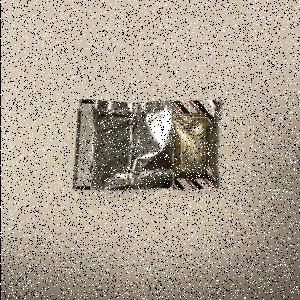Trash: (73, 100, 221, 192)
